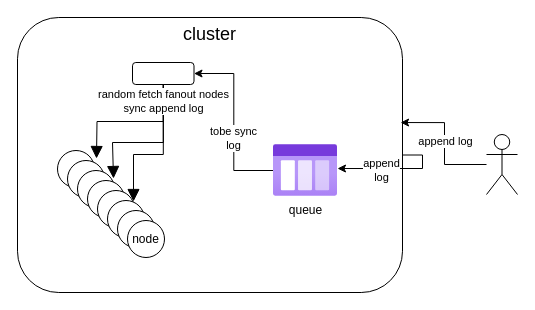
Image size: 535x310. Some labels were removed from this diagram. The shapes that lost their labels are listed below. From the top down, each one's box as (x1, y1, x2, y2) in pixels, then its label:
(132, 62, 194, 84): scheduler
(486, 134, 518, 194): Actor
